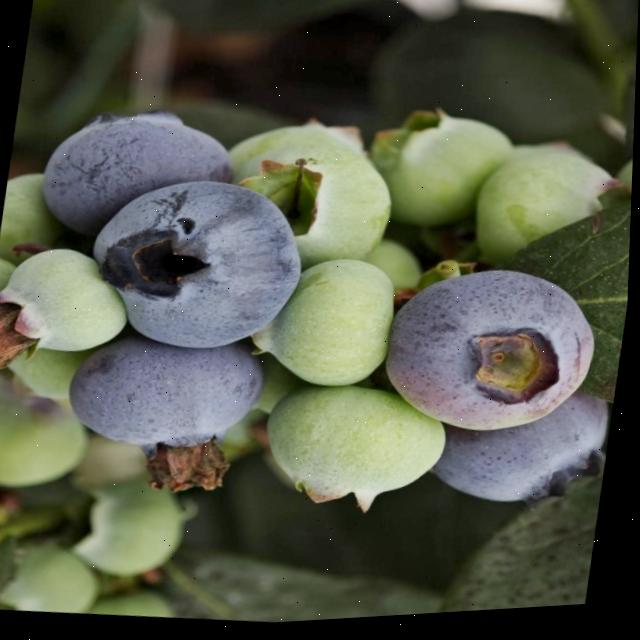RipeBlueBerry: (90, 171, 314, 361), (33, 101, 237, 258), (66, 336, 274, 467)
Semi-RipeBlueBerry: (379, 263, 610, 454)
UnripeBlueBerry: (257, 378, 457, 526), (219, 121, 401, 276), (465, 148, 630, 286), (265, 254, 406, 401), (0, 240, 135, 362), (64, 473, 192, 588), (0, 377, 98, 494)
